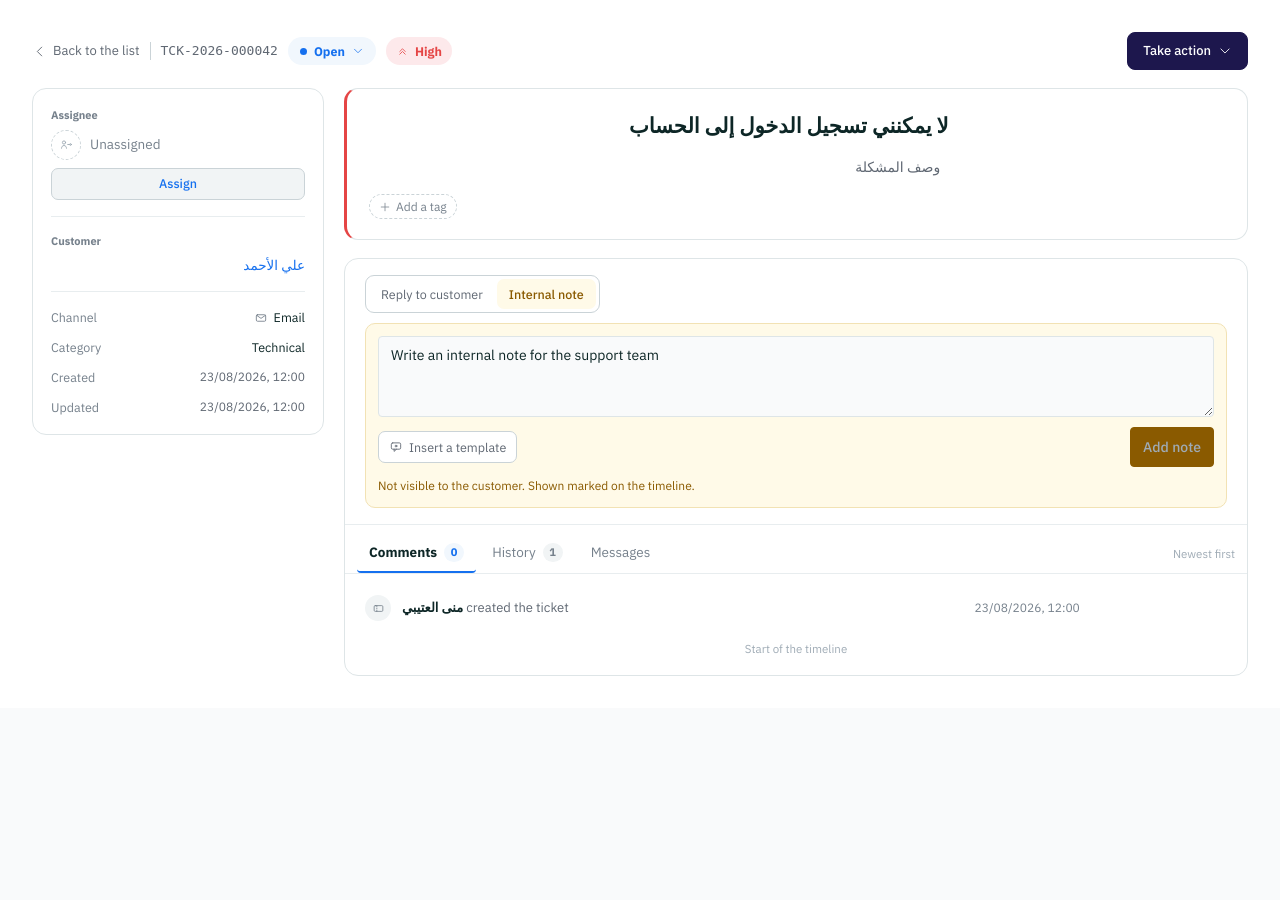
Scenario: AC-6 — expectedVersion comes from the read, and AC-4/AC-5 keep the answers apart › a 400 is shown as a client defect, not as a recoverable error
The image size is (1280, 900).
Expected: the text "TCK-2026-000042" is shown, [160,41,278,61]
Click the button "Open" at (332, 51), box [288,37,376,65]
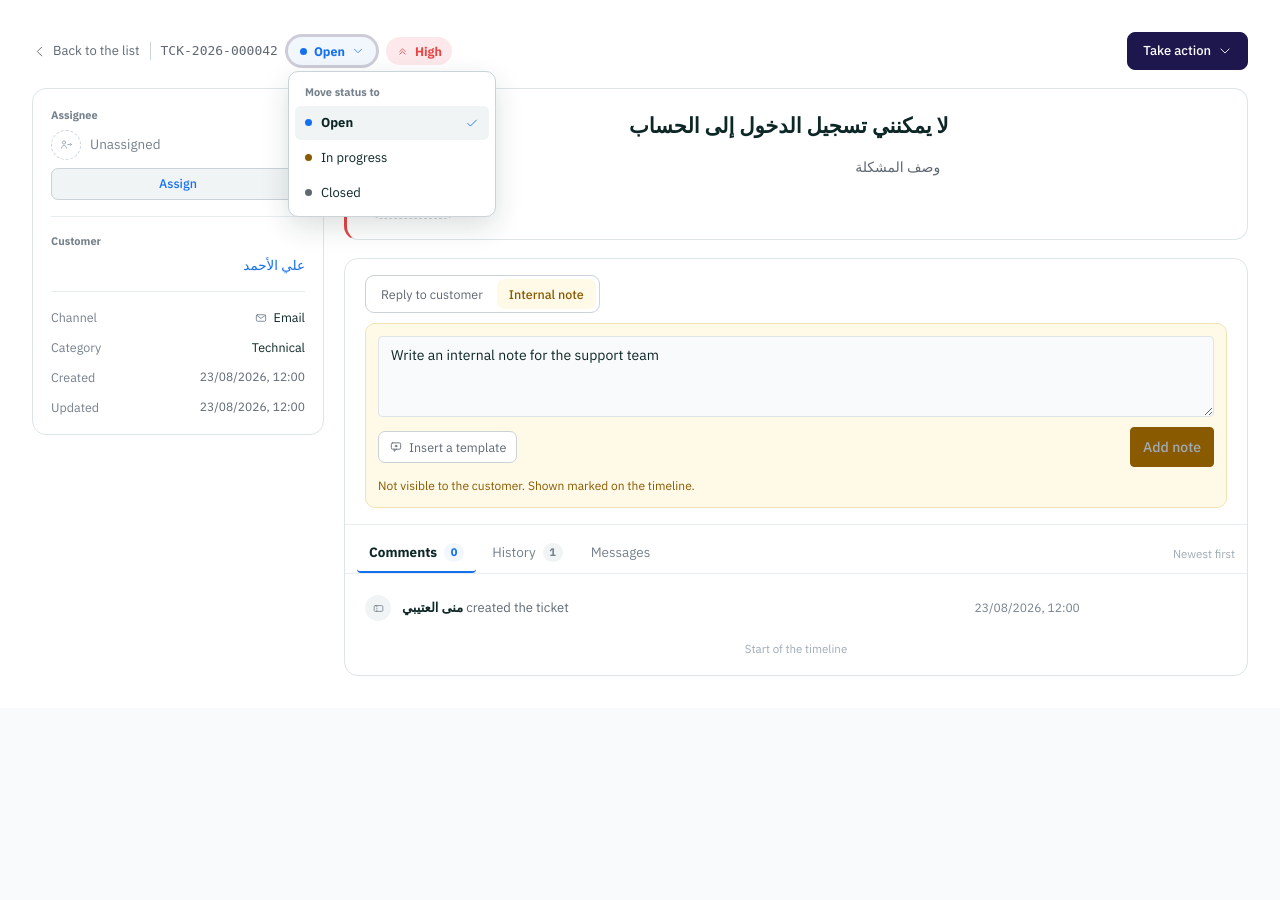
Click the menu item "In progress" at (392, 158), box [295,141,489,175]
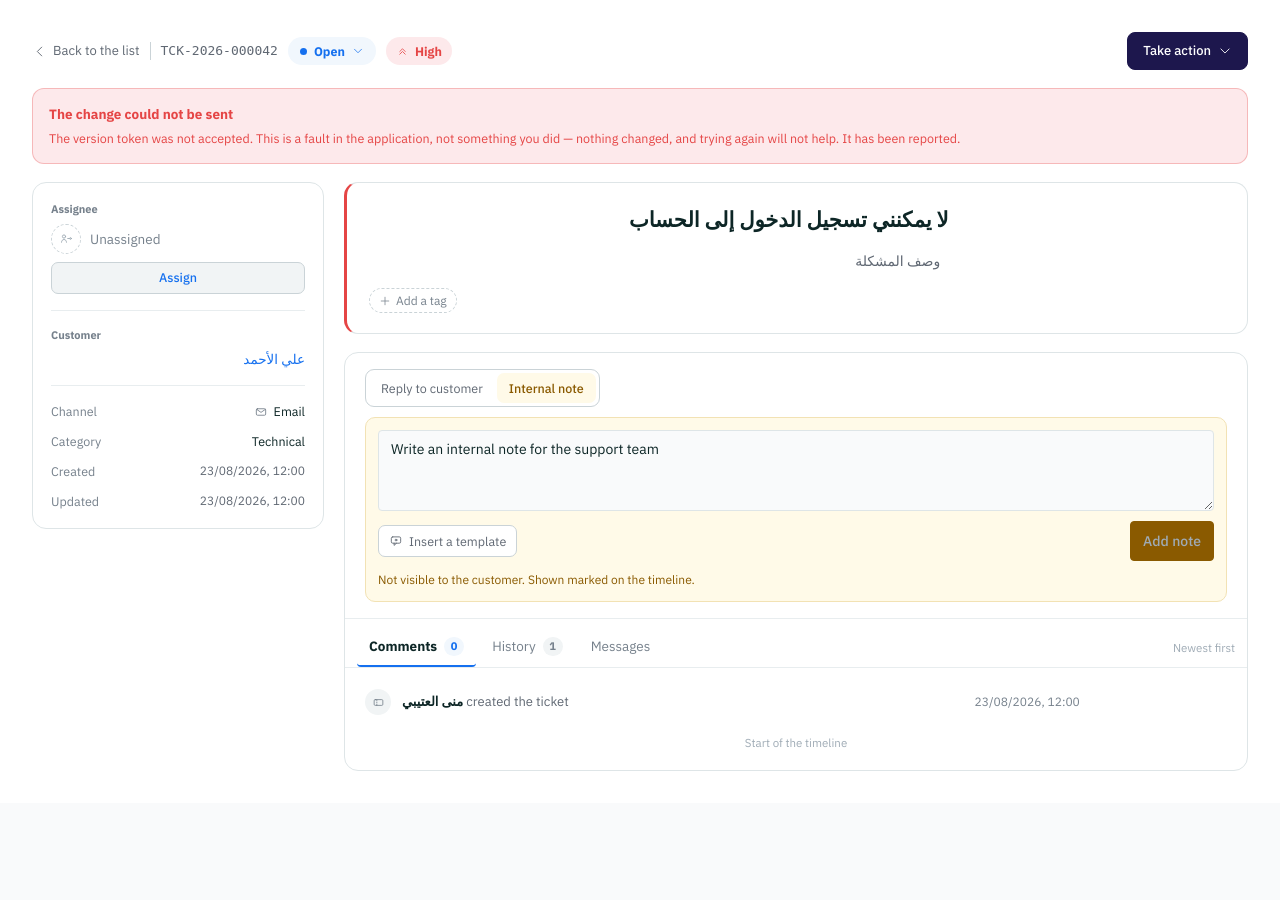
Expected: the text "The change could not be sent" is shown, [49,105,233,123]
